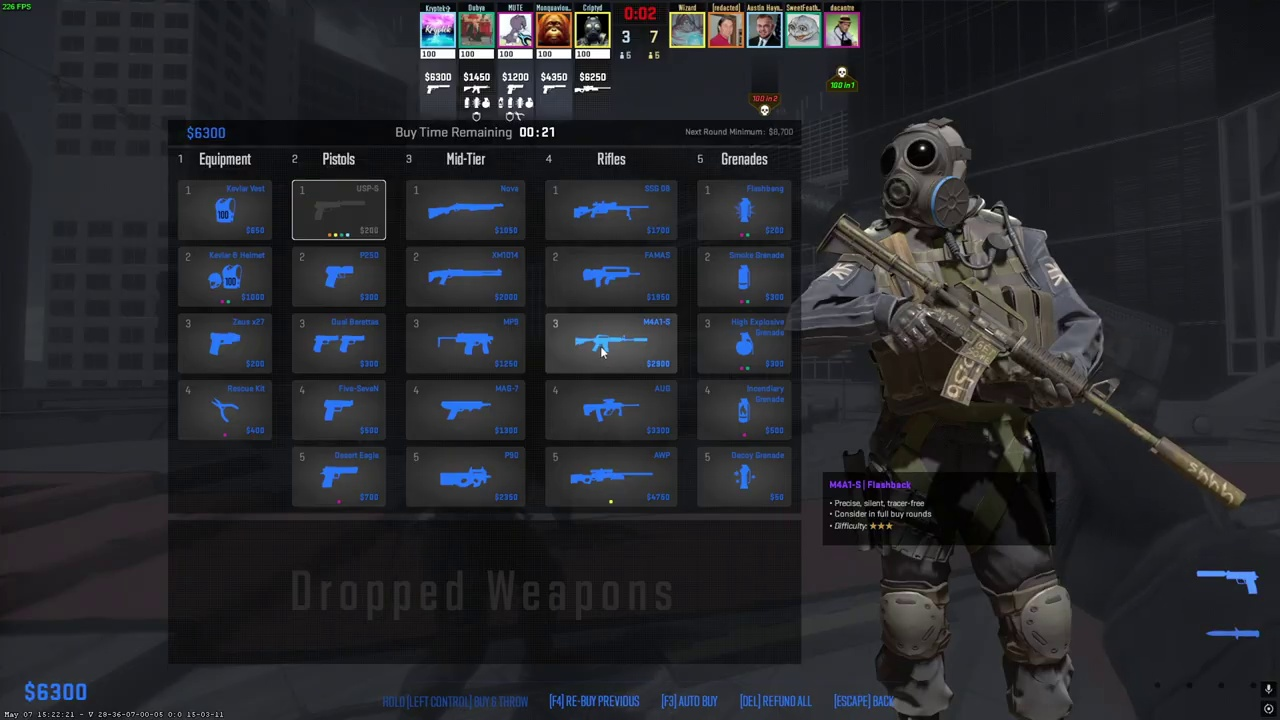CT: (856, 123, 1089, 720)
